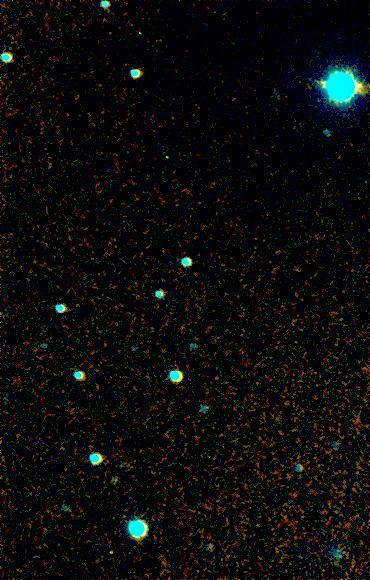star: (307, 67, 337, 97)
